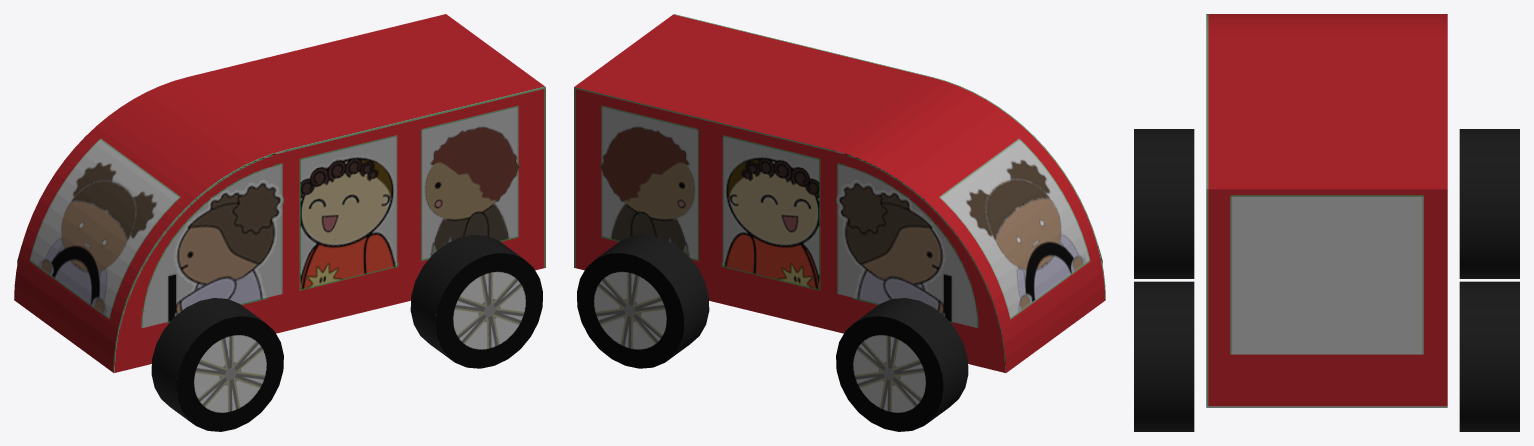
Rendered from car_1.glb.
The picture shows the model from 3 angles, left to right: view 1: azimuth 30°, elevation 25°; view 2: azimuth 150°, elevation 25°; view 3: azimuth 270°, elevation 25°; orthographic projection. The views are drawn at different scales.
Visible parts, largest first — view 1: car, wheelLF, wheelLB; view 2: car, wheelRF, wheelRB; view 3: car, wheelRB, wheelLB, wheelRF, wheelLF.
Boxes of the visible parts, x1,y1,x2,y2 form: car: (14, 14, 545, 372); wheelLF: (151, 298, 283, 431); wheelLB: (410, 234, 542, 368); car: (574, 14, 1105, 372); wheelRF: (836, 298, 968, 431); wheelRB: (577, 234, 709, 368); car: (1206, 14, 1447, 407); wheelRB: (1459, 281, 1519, 431); wheelLB: (1134, 281, 1194, 431); wheelRF: (1459, 129, 1519, 278); wheelLF: (1134, 129, 1194, 278).
Bounding box in the file's own units: 0.5 × 0.2622 × 0.32.
Materials: 2 (2 with a texture image).
